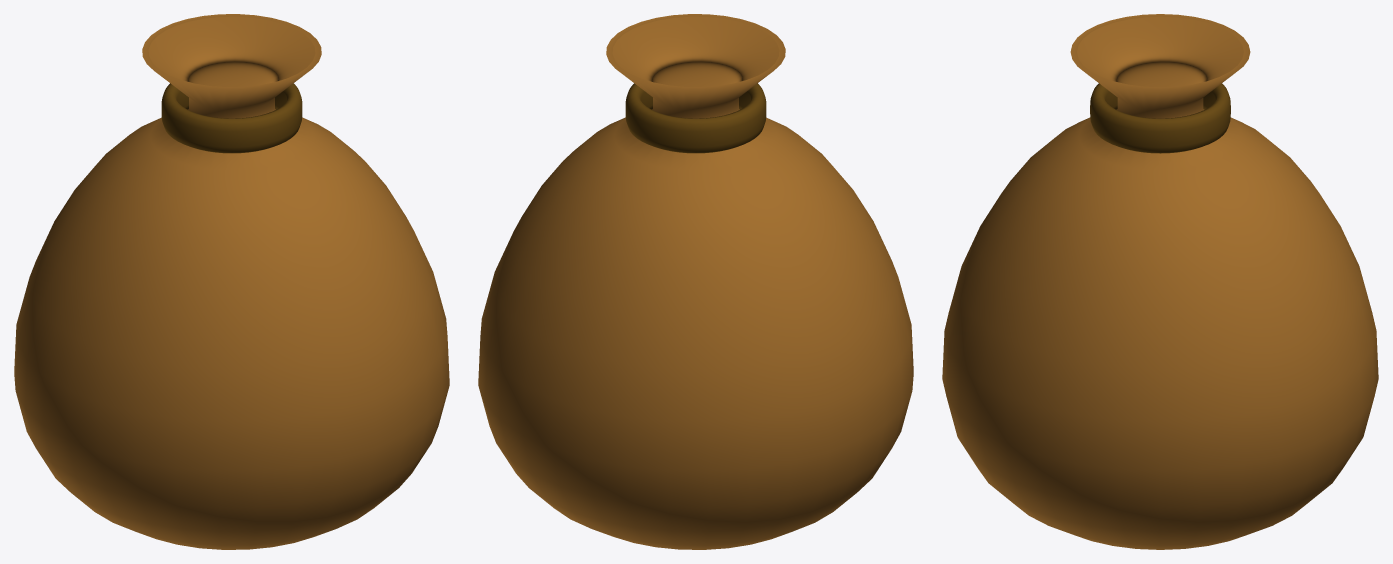
Rendered from money bag.glb.
The picture shows the model from 3 angles, left to right: view 1: azimuth 30°, elevation 25°; view 2: azimuth 150°, elevation 25°; view 3: azimuth 270°, elevation 25°; orthographic projection.
Visible parts, largest first — view 1: Sphere, Torus; view 2: Sphere, Torus; view 3: Sphere, Torus.
Part boxes in pixels (<box>): Sphere: <box>14,14,449,549</box>; Torus: <box>161,83,302,153</box>; Sphere: <box>478,14,913,549</box>; Torus: <box>625,83,766,153</box>; Sphere: <box>942,14,1378,549</box>; Torus: <box>1090,83,1230,153</box>.
Bounding box in the file's own units: 1.95 × 2.32 × 1.95.
